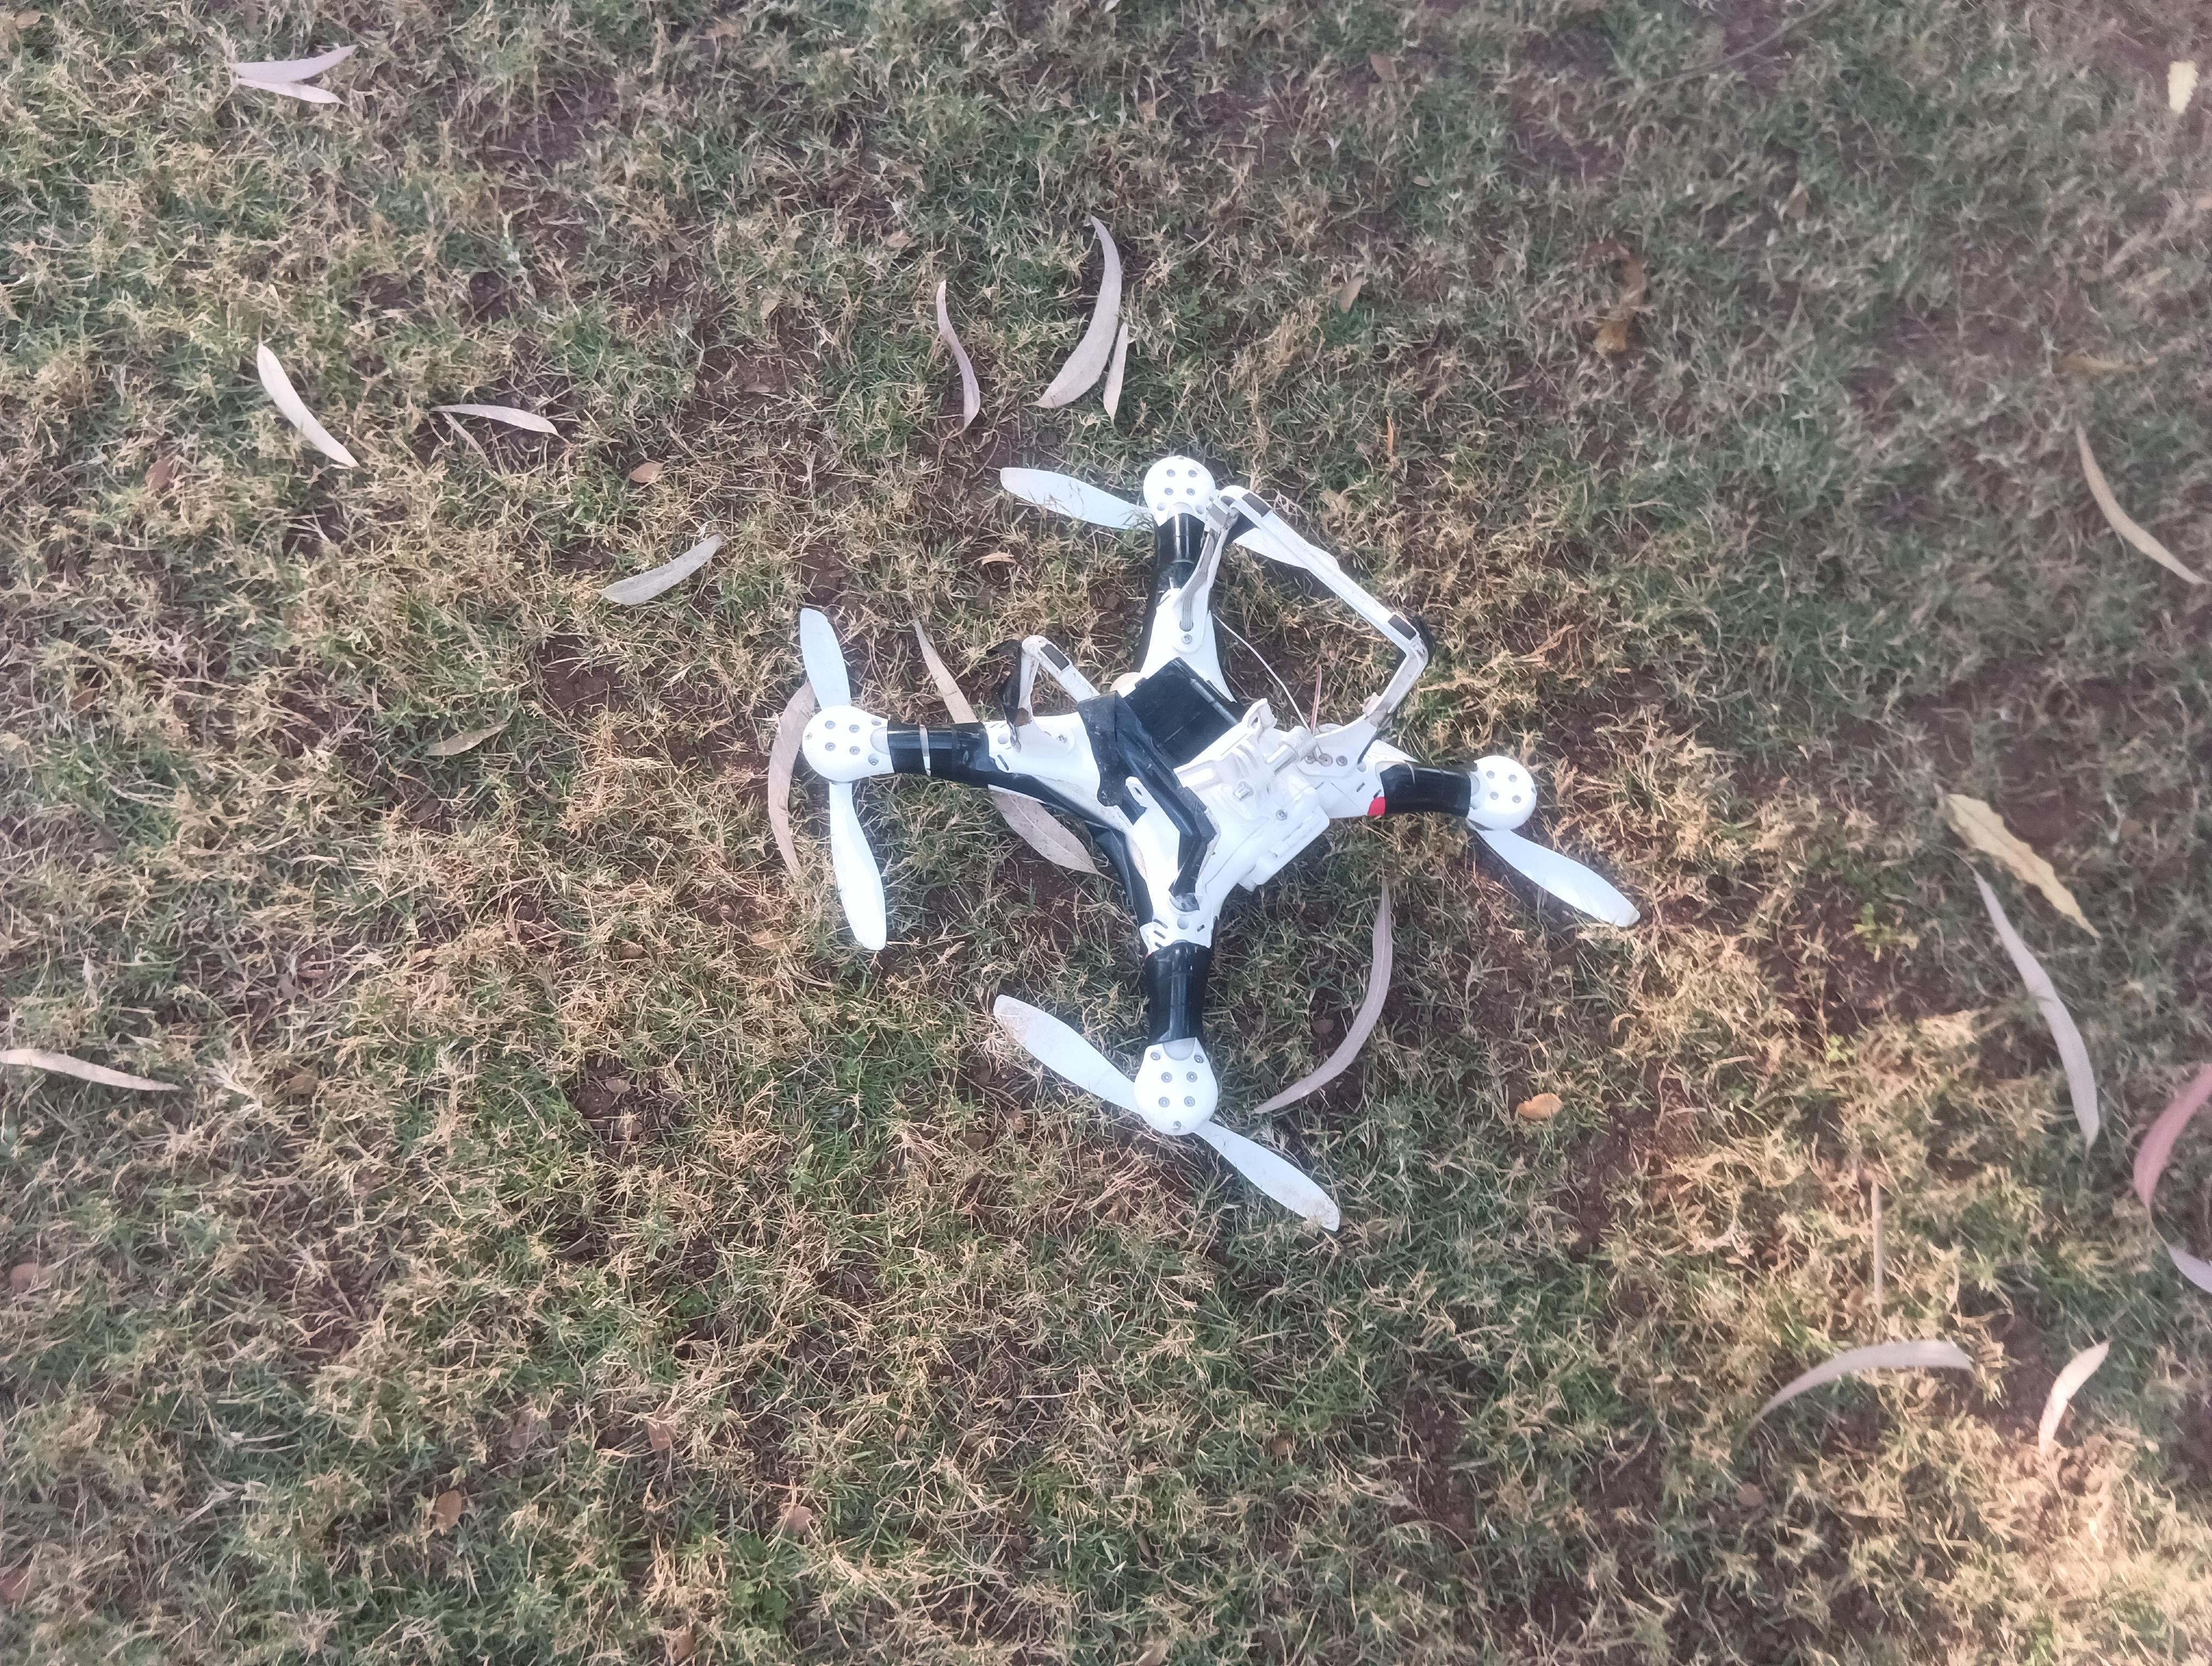drone: (706, 418, 1686, 1249)
